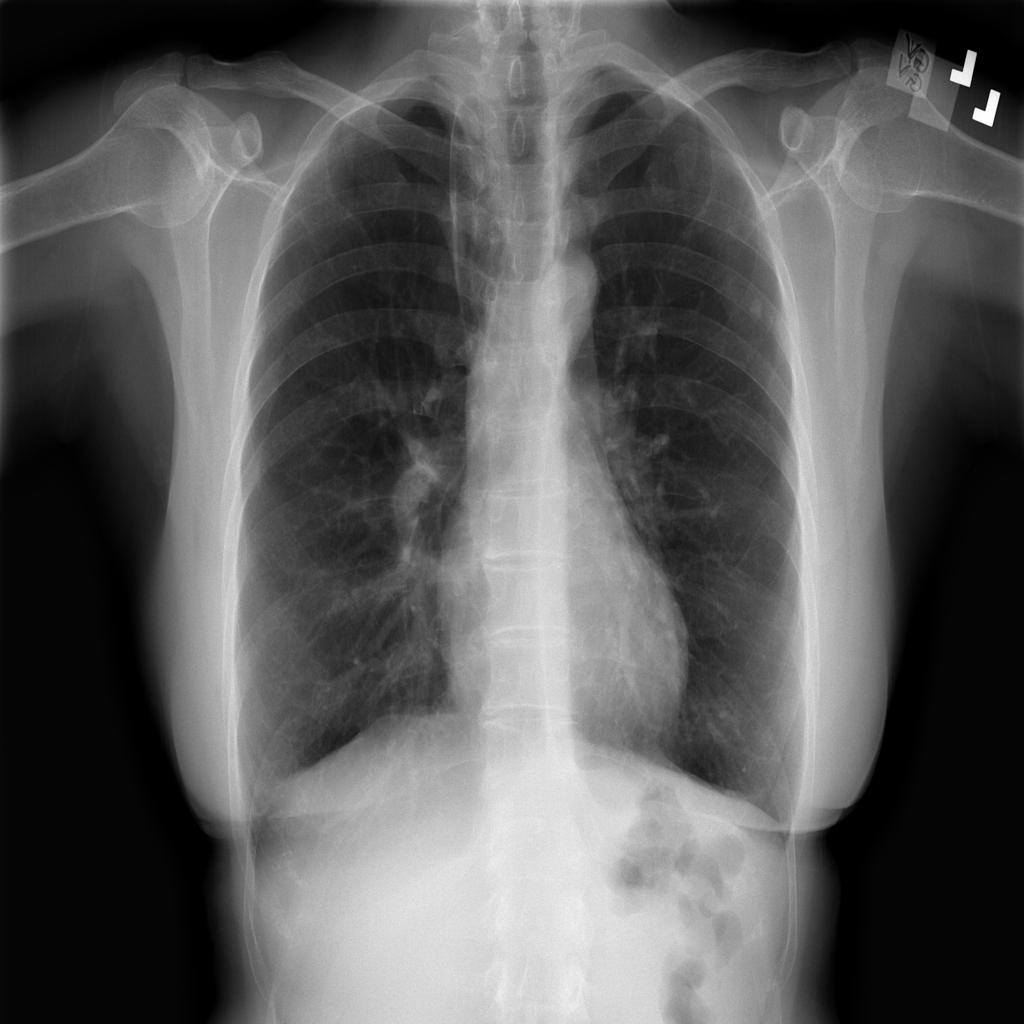nodule: (734, 278, 777, 340)
